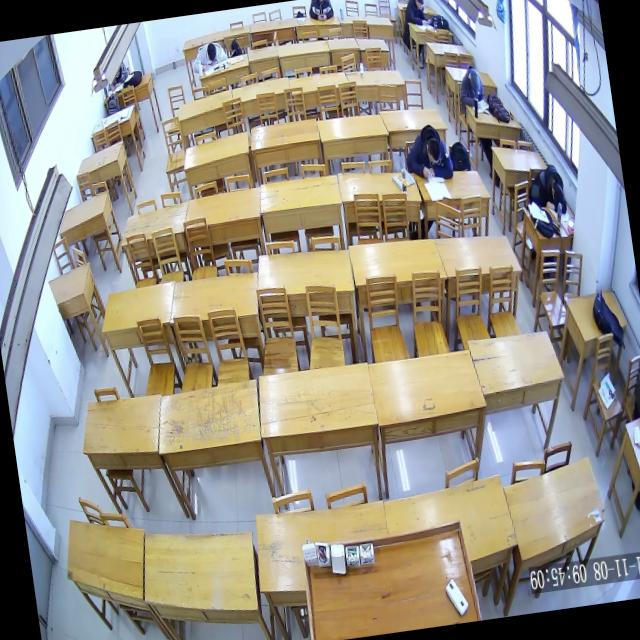bow: (402, 121, 454, 186), (530, 164, 568, 218), (190, 41, 228, 72)
down: (426, 138, 442, 166), (468, 68, 482, 93), (205, 42, 218, 62), (414, 0, 424, 11)
sit: (456, 64, 486, 109), (402, 0, 432, 29)
